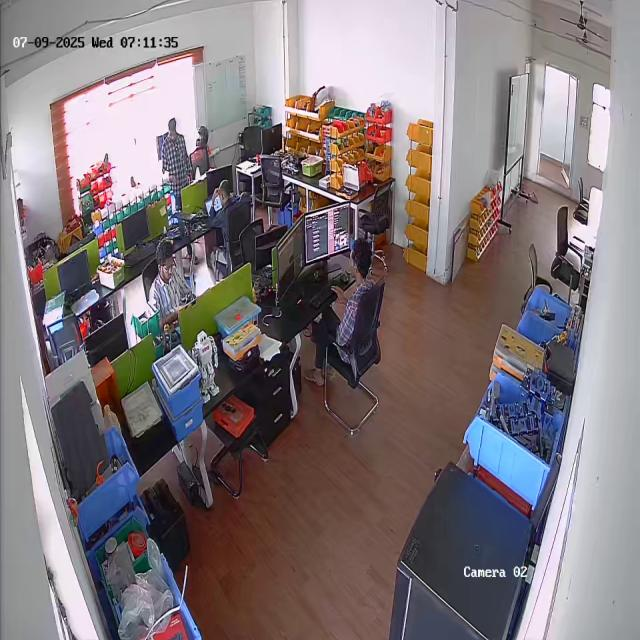person: (327, 239, 374, 345), (149, 241, 190, 324), (161, 118, 190, 198), (208, 179, 242, 235)
